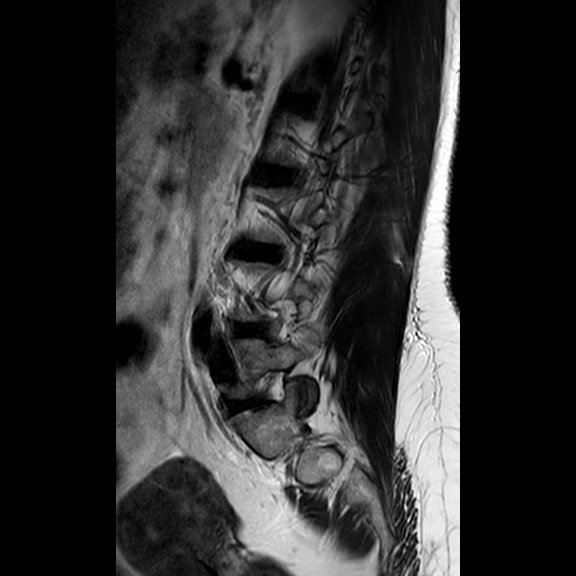LFS0: (244, 356, 299, 417)
